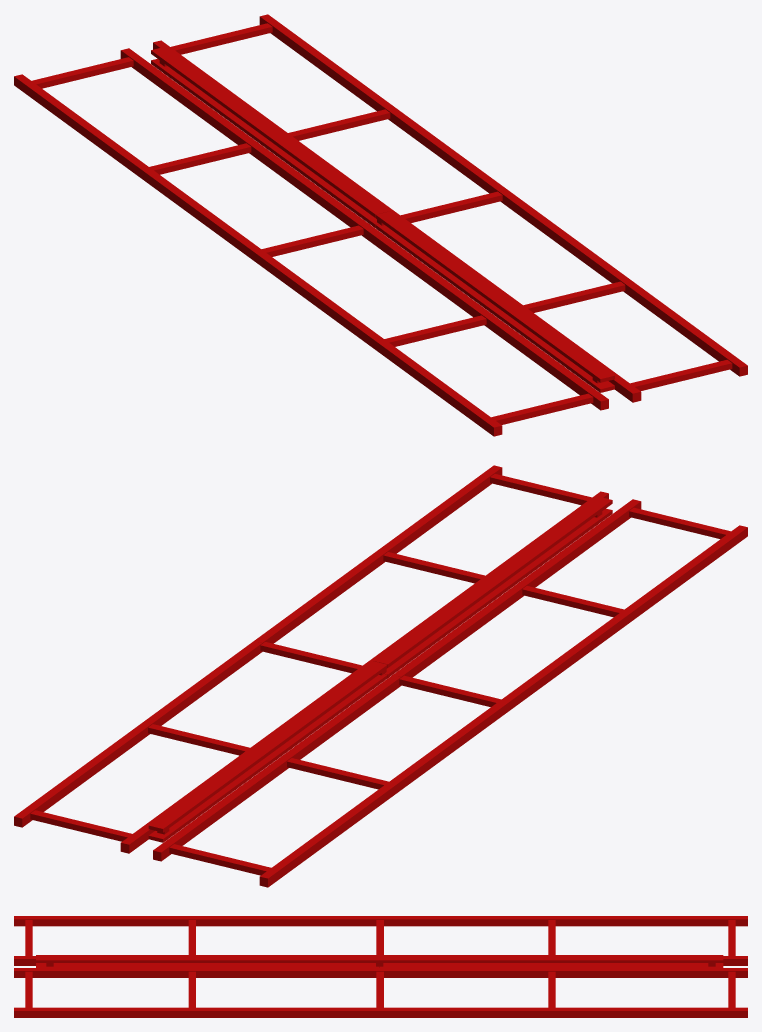
File: Metal_Structure_03.fbx
The picture shows the model from 3 angles, top to bottom: view 1: azimuth 30°, elevation 25°; view 2: azimuth 150°, elevation 25°; view 3: azimuth 270°, elevation 25°; orthographic projection. The views are drawn at different scales.
Visible parts, largest first — view 1: Metal_Structure_03; view 2: Metal_Structure_03; view 3: Metal_Structure_03.
Boxes of the visible parts, <box> form: Metal_Structure_03: <box>14,14,747,436</box>; Metal_Structure_03: <box>14,465,747,887</box>; Metal_Structure_03: <box>14,916,747,1017</box>.
Bounding box in the file's own units: 374 × 24.4 × 1223.
